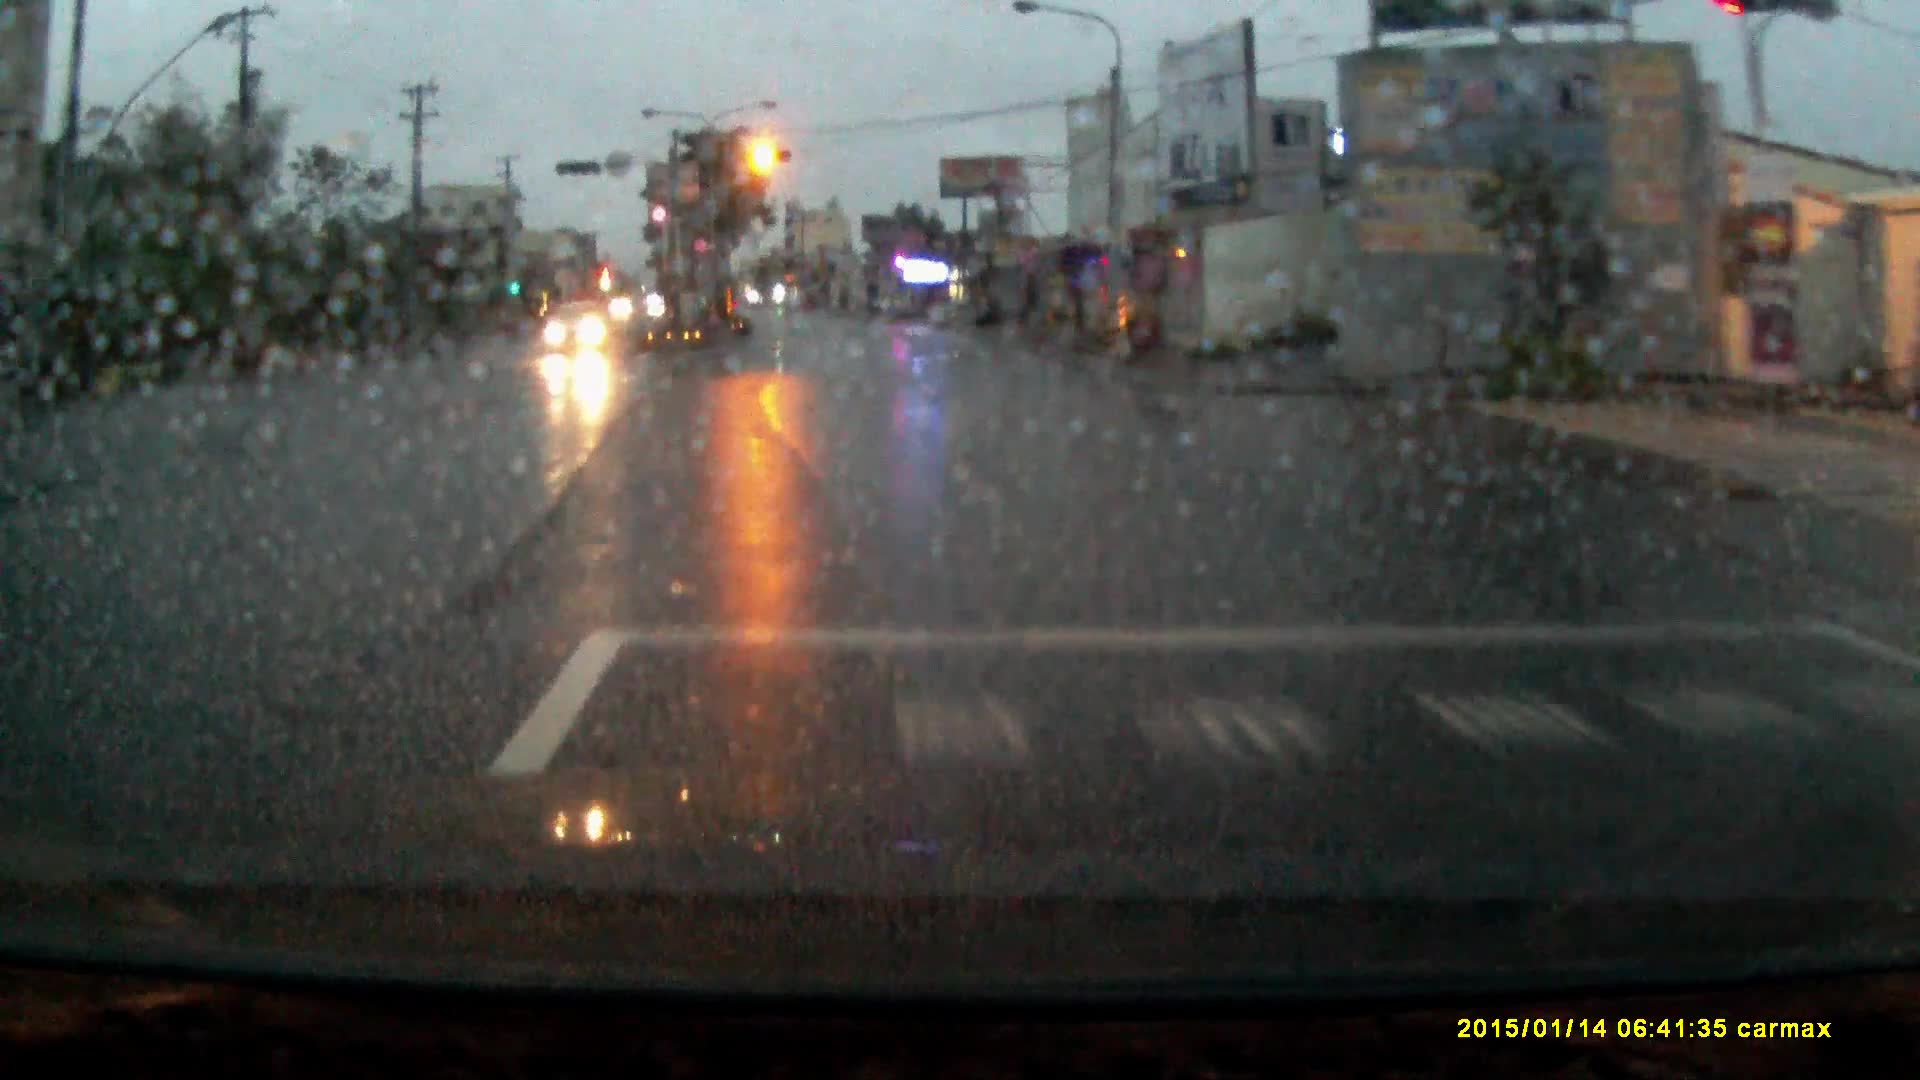vehicle: (541, 302, 613, 356)
